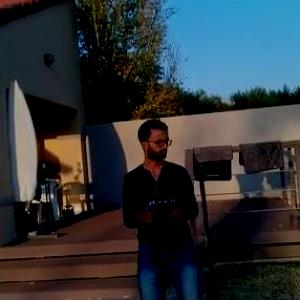follow: (123, 112, 210, 299)
